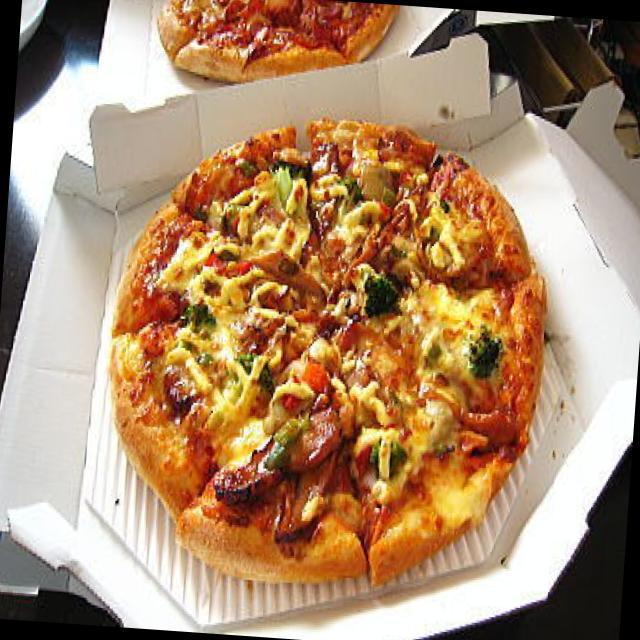Pizza: (88, 95, 565, 605)
